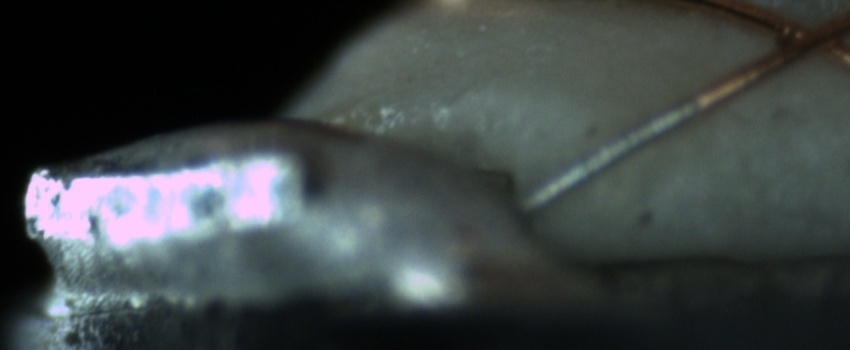CL: (759, 4, 849, 67)
TS: (516, 98, 704, 212)
